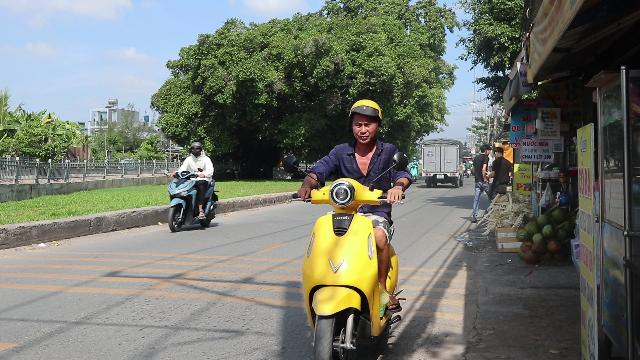helmet: (346, 99, 384, 150), (189, 141, 203, 155)
motorcyclist: (284, 98, 418, 358), (164, 141, 220, 232)
